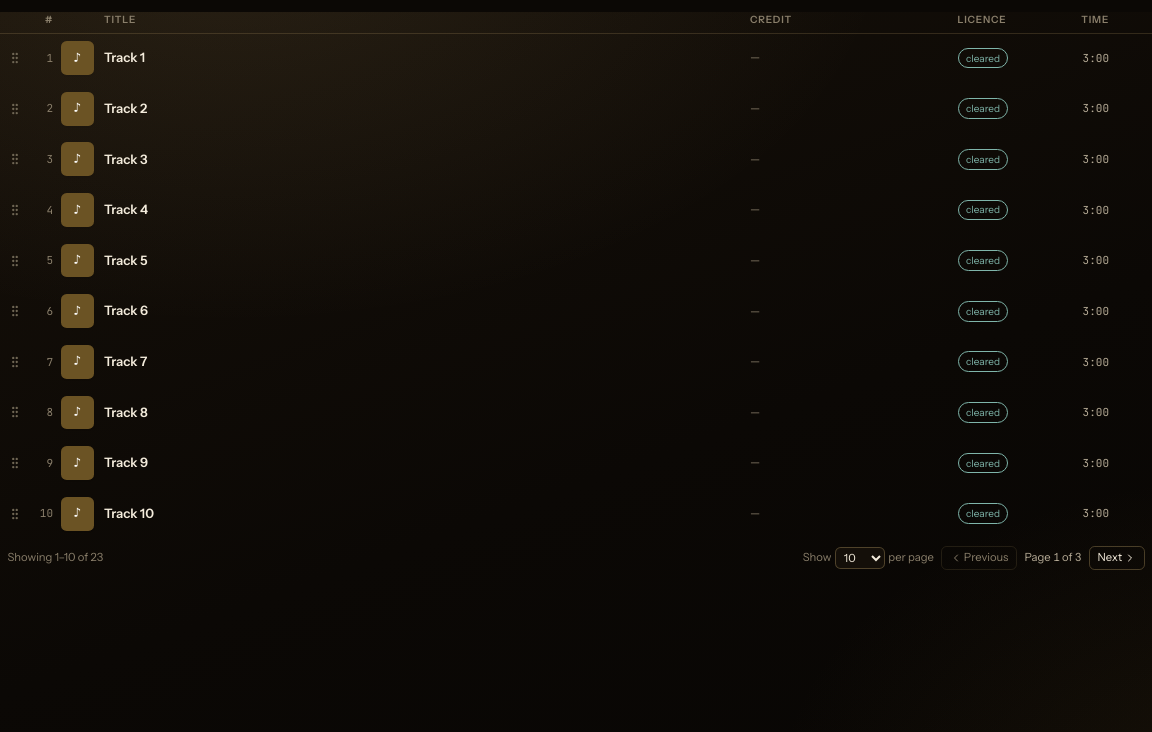
Scenario: Tracklist pages › shows 10 a page by default, with Next to the rest
Expected: the text "Showing 1–10 of 23" is shown, 8,550 -> 103,565
Expected: the button with aria-label "previous page" is disabled, 942,546 -> 1017,570
Click the button with aria-label "next page" at x=1117, y=558, box 1089,546 -> 1144,570
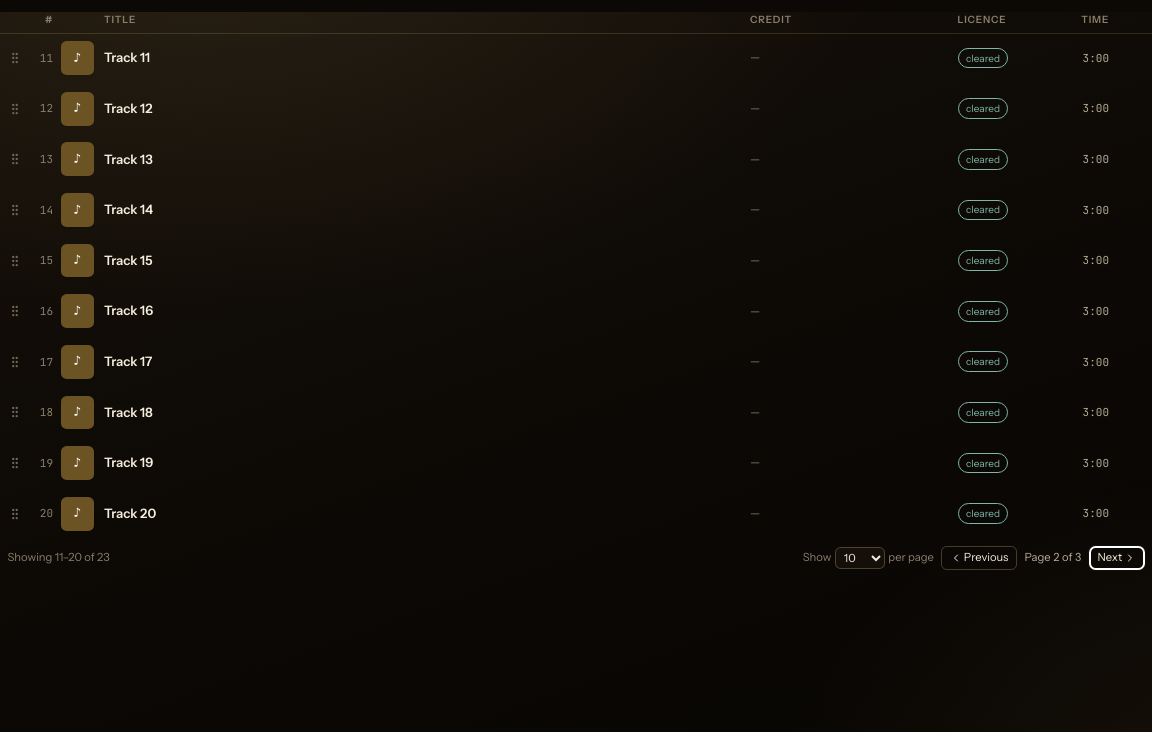
Result: the text "Showing 11–20 of 23" is shown at 8,550 -> 110,565
Result: the list item "11 ♪ Track 11 — cleared 3:00" is shown at 0,34 -> 1151,82
Click the button with aria-label "next page" at x=1117, y=558, box 1089,546 -> 1144,570
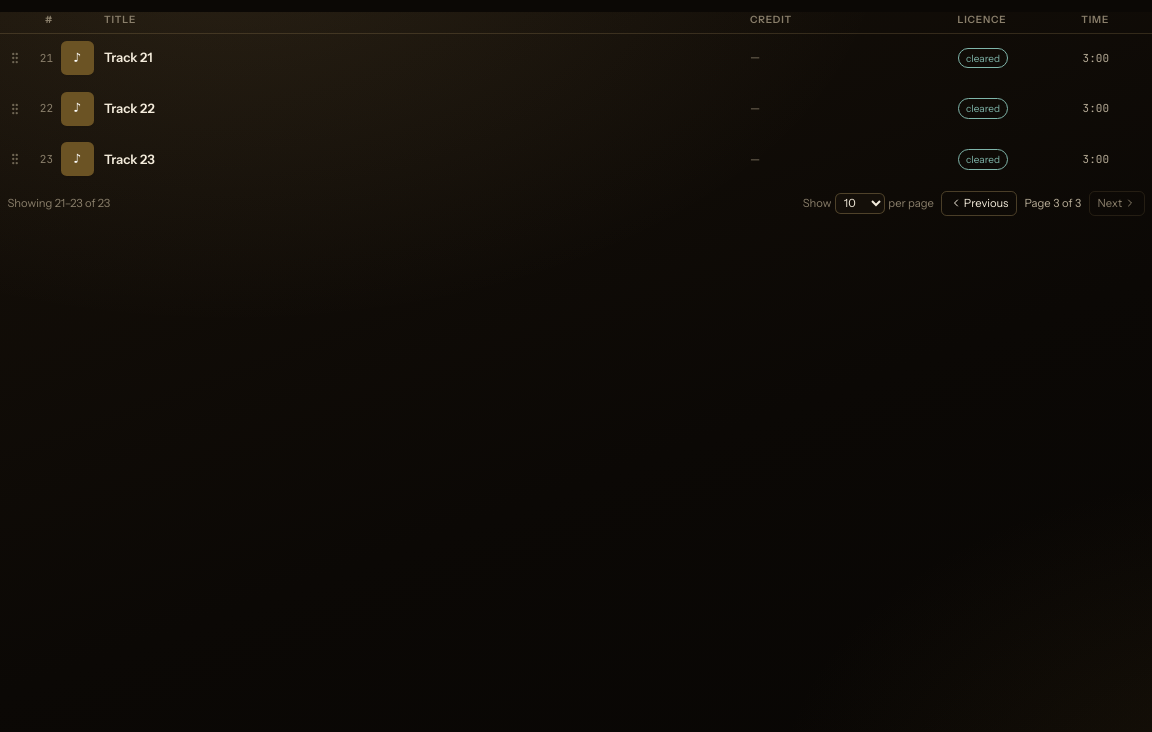
Result: the number of list items is 3 at 0,34 -> 1151,82; 0,84 -> 1151,133; 0,135 -> 1151,184
Result: the button with aria-label "next page" is disabled at 1089,191 -> 1144,216
